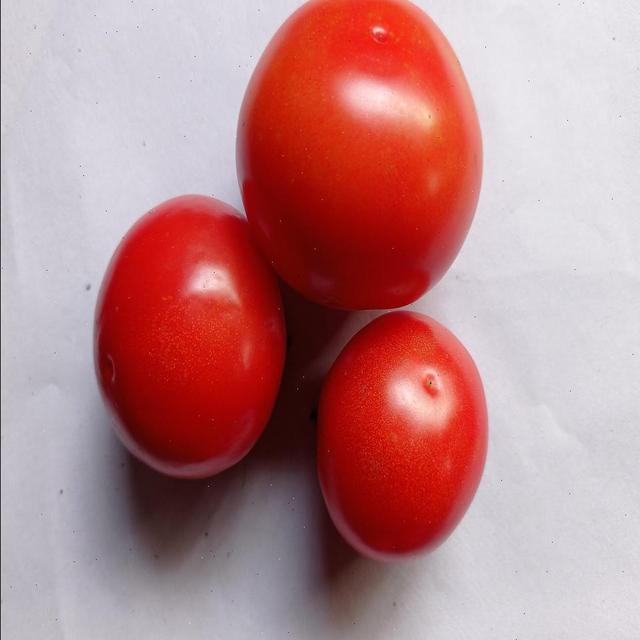Healthy Fruit: (121, 107, 268, 292)
